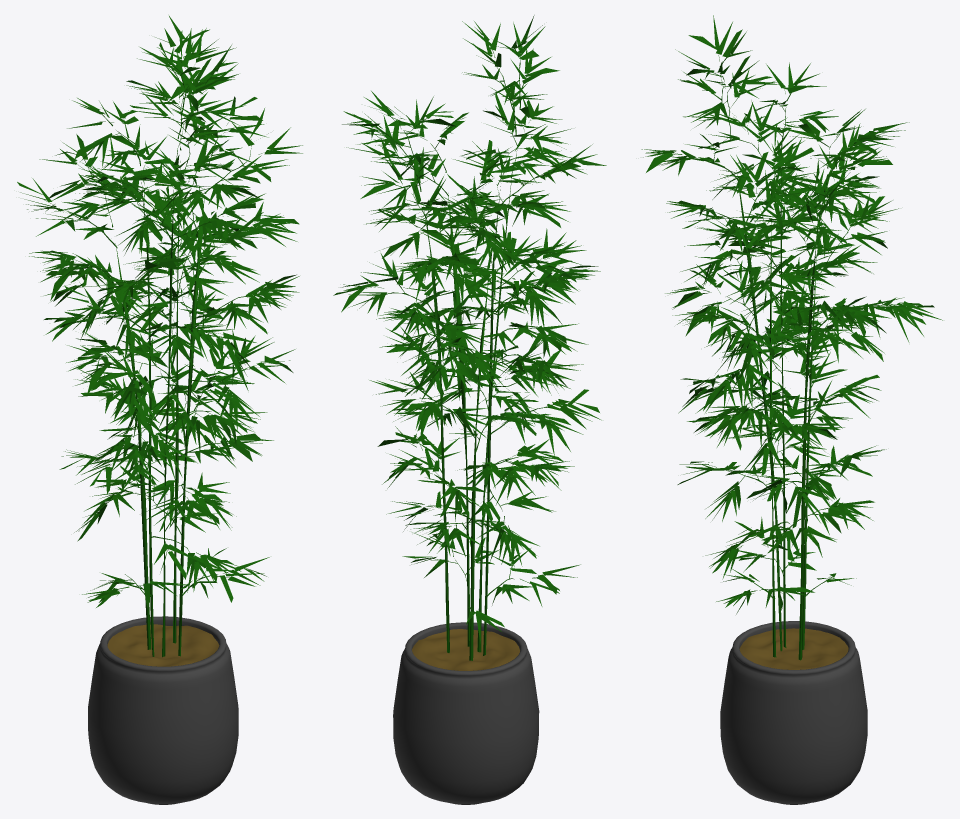
Rendered from deco_bamboo_1 (1).fbx.
3 views of the same model, side by side, from view 1: azimuth 30°, elevation 25°; view 2: azimuth 150°, elevation 25°; view 3: azimuth 270°, elevation 25° (orthographic). The views are drawn at different scales.
Parts seen in each view (by area): view 1: Potted.001; view 2: Potted.001; view 3: Potted.001.
Part boxes in pixels (x1,y1,x2,y2): Potted.001: (17,16,302,804); Potted.001: (333,15,606,804); Potted.001: (641,15,942,804).
Size of the model in its own units: 62.02 by 174 by 64.43.
